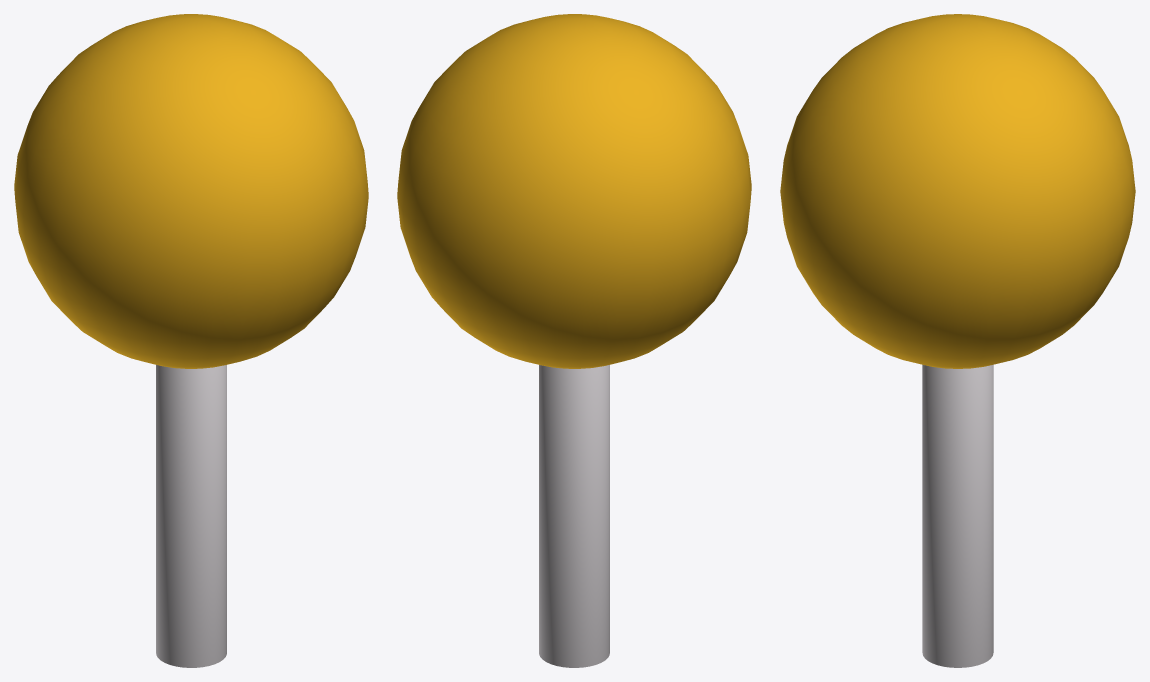
File: mapPinYellow.glb
3 renders of one model, left to right at view 1: azimuth 30°, elevation 25°; view 2: azimuth 150°, elevation 25°; view 3: azimuth 270°, elevation 25°, orthographic.
Visible parts, largest first — view 1: Sphere, Cylinder; view 2: Sphere, Cylinder; view 3: Sphere, Cylinder.
Part boxes in pixels (x1=…): Sphere: x1=14, y1=14, x2=368, y2=368; Cylinder: x1=156, y1=365, x2=226, y2=667; Sphere: x1=397, y1=14, x2=751, y2=368; Cylinder: x1=539, y1=365, x2=609, y2=667; Sphere: x1=780, y1=14, x2=1135, y2=368; Cylinder: x1=922, y1=364, x2=993, y2=667.
Size of the model in its own units: 2 by 3.87 by 2.
